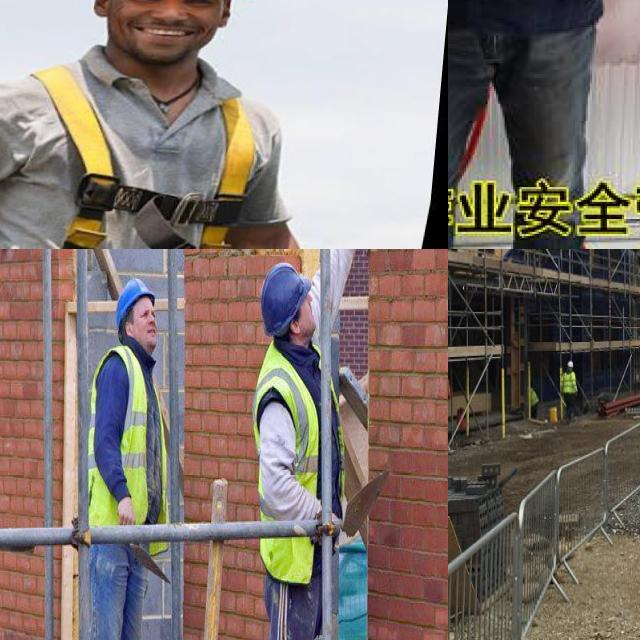Harness: (33, 66, 256, 249)
face_nomask: (132, 296, 164, 351)
hand_noglove: (116, 498, 136, 541)
head_helmet: (261, 260, 312, 341), (116, 278, 155, 333), (566, 360, 572, 370)
person: (253, 249, 350, 640), (89, 273, 170, 640), (559, 361, 578, 417)
vest: (86, 345, 170, 555), (252, 340, 318, 584), (559, 370, 578, 396)
